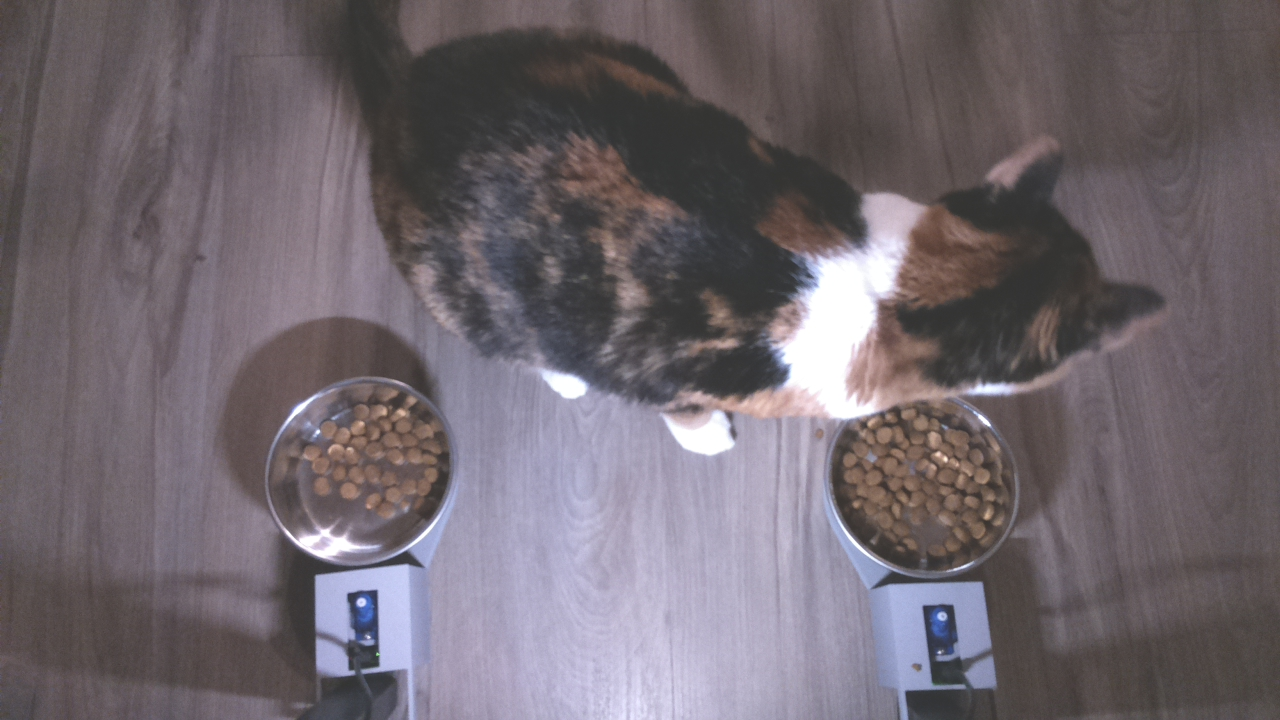bella: (899, 119, 1183, 425)
open_bowl: (261, 370, 464, 576), (826, 399, 1022, 584)
